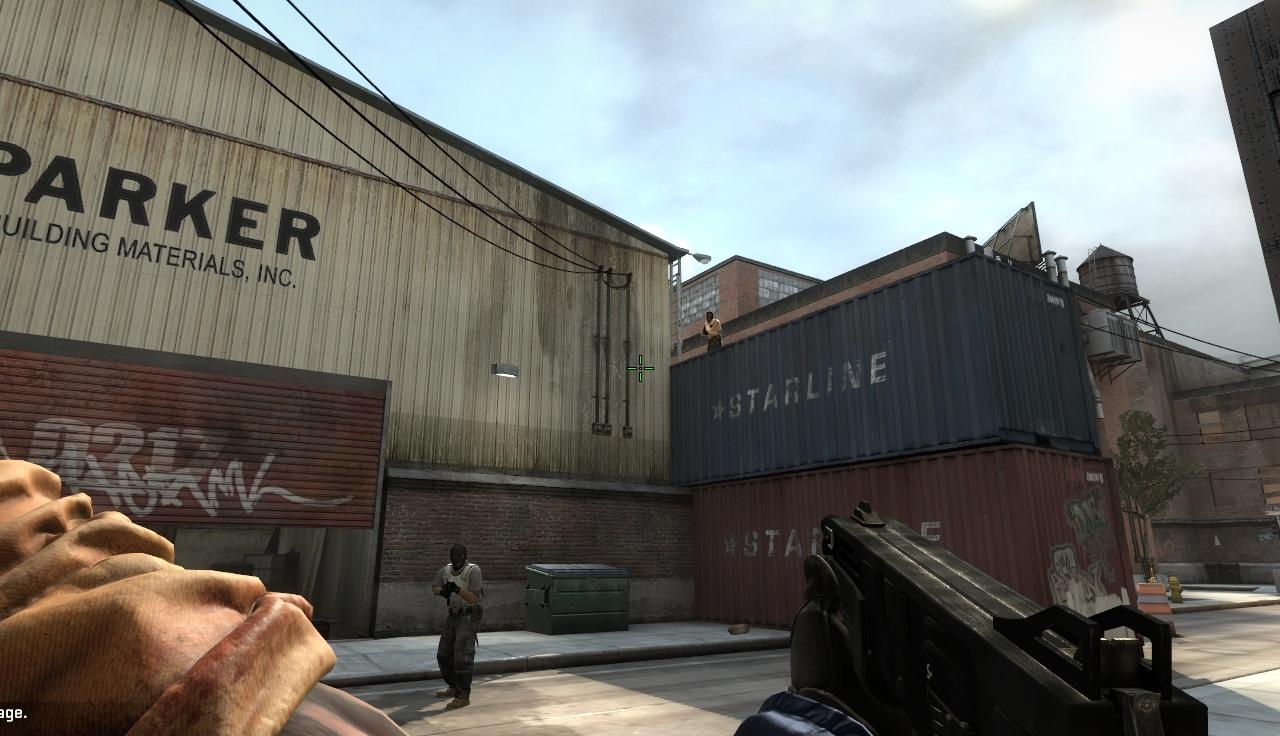shotgun: (795, 499, 1163, 736)
tt: (435, 542, 481, 713), (701, 311, 722, 352)
tthead: (448, 544, 467, 569), (706, 311, 713, 322)
